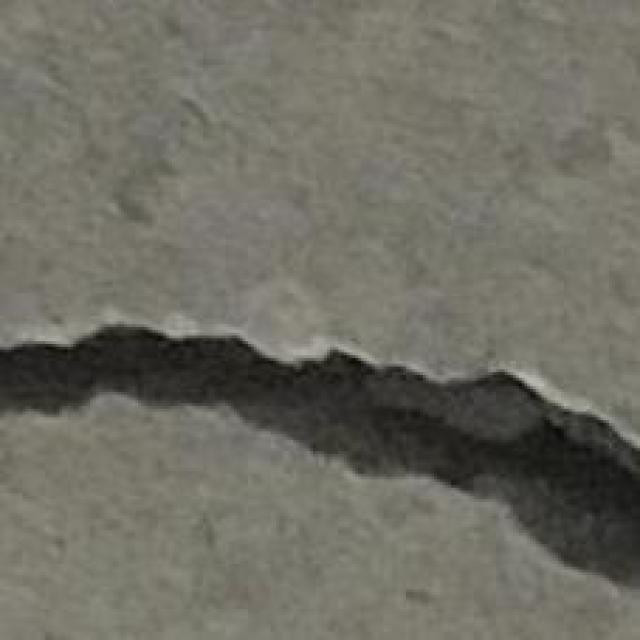Transverse: (0, 328, 640, 596)
